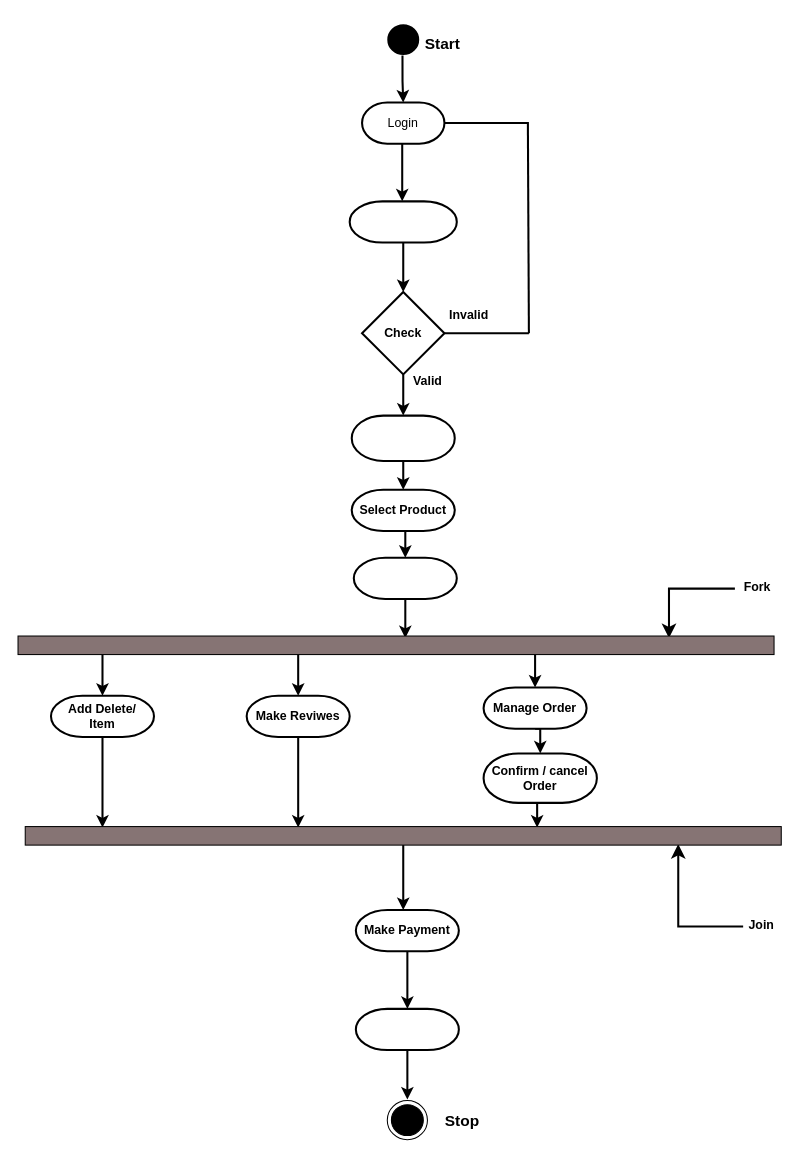
The diagram is 811 pixels wide and 1158 high, and some of its shapes have lost their labels. Each missing label, with the box of its shape:
Add to Cart/ Make Order: (352, 556, 457, 599)
Authentication: (348, 200, 457, 243)
Log out: (354, 1007, 459, 1051)
Search View/ Product: (350, 414, 455, 461)
